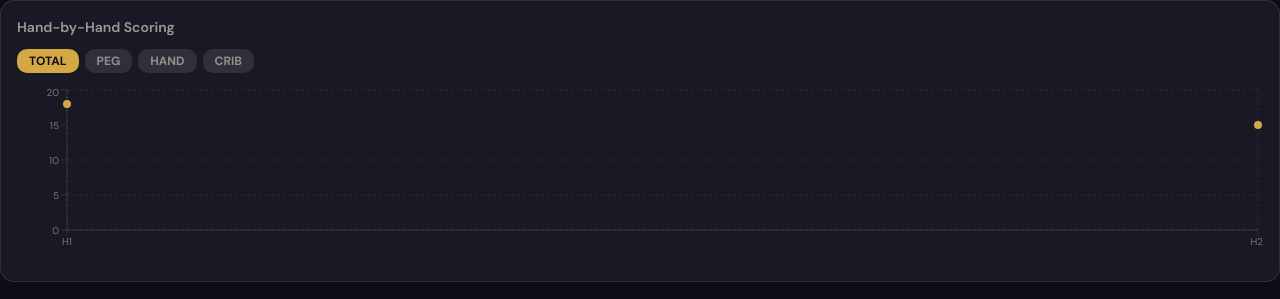
Test: HandByHandChart › active button has correct style class after click
The width and height of the screenshot is (1280, 299).
# Click PEG
Click the button with test id "toggle-peg": (108, 61) [84,49,132,73]
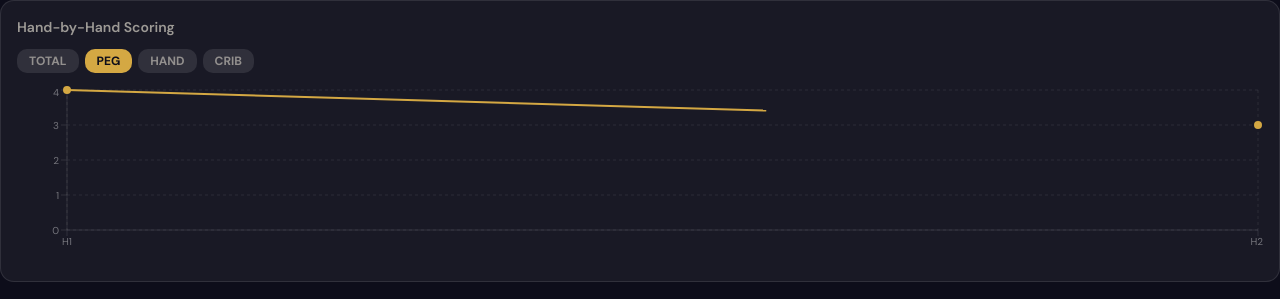
expect the button with test id "toggle-peg" has class "bg-gold": met, box [84,49,132,73]
expect the button with test id "toggle-total" has class "bg-white/10": met, box [17,49,78,73]
